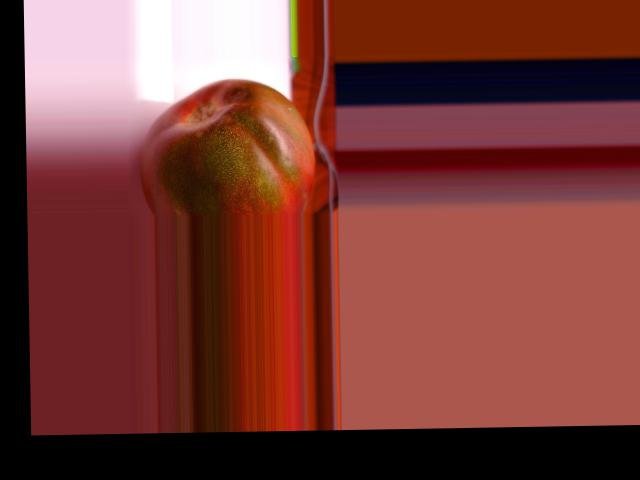tomato: (140, 78, 316, 216)
